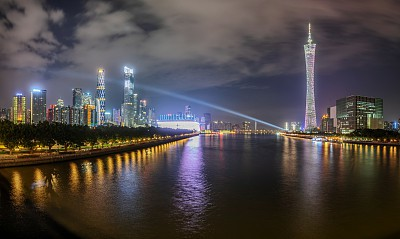Canton: (302, 22, 318, 129)
